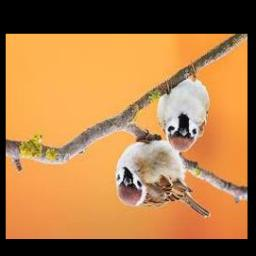Sparrow: (116, 129, 211, 217), (157, 62, 210, 152)
